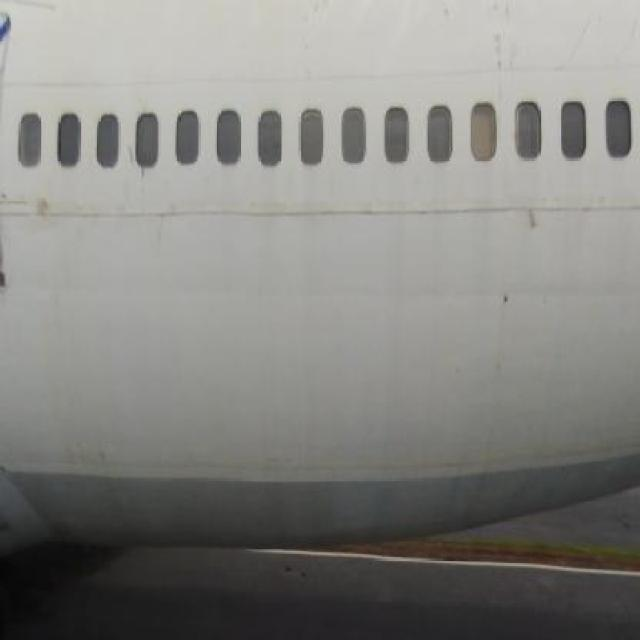Scartch: (481, 202, 554, 307), (564, 6, 640, 71), (484, 14, 527, 101)
